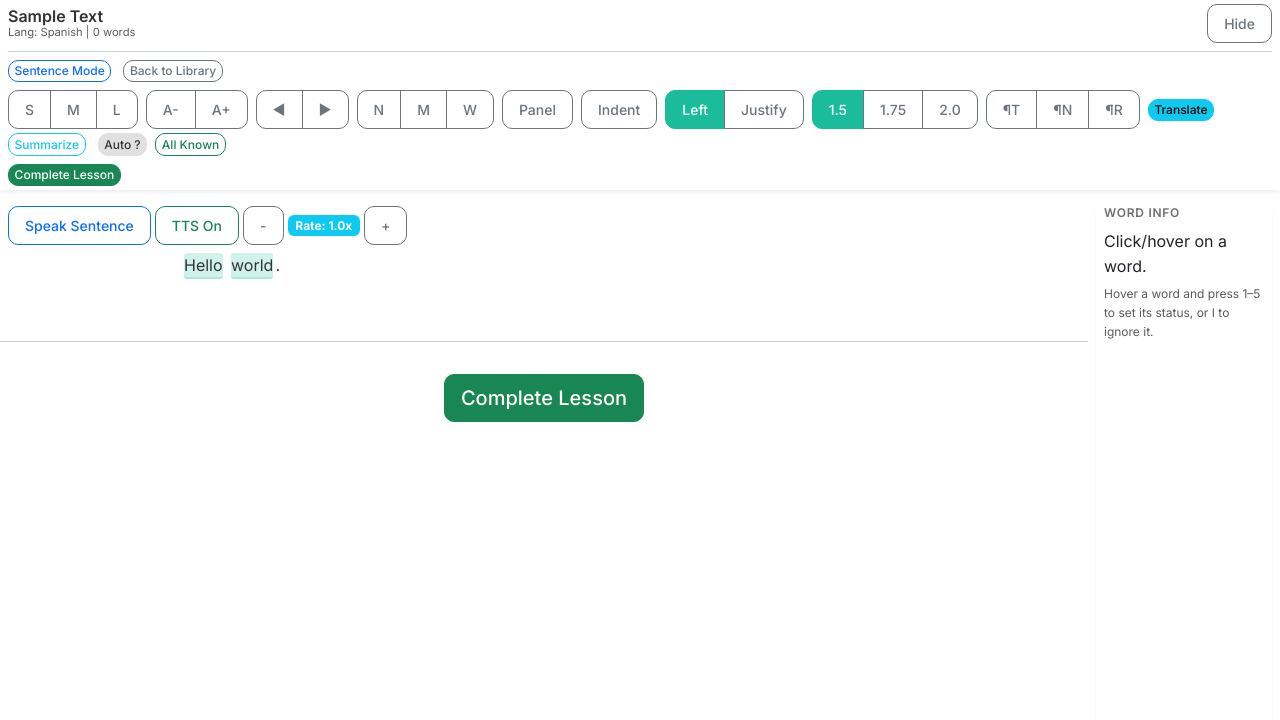
Test: TextDisplay › clicking a word opens Word Info panel
Click the text "Hello" at (203, 266), box [184,253,223,279]
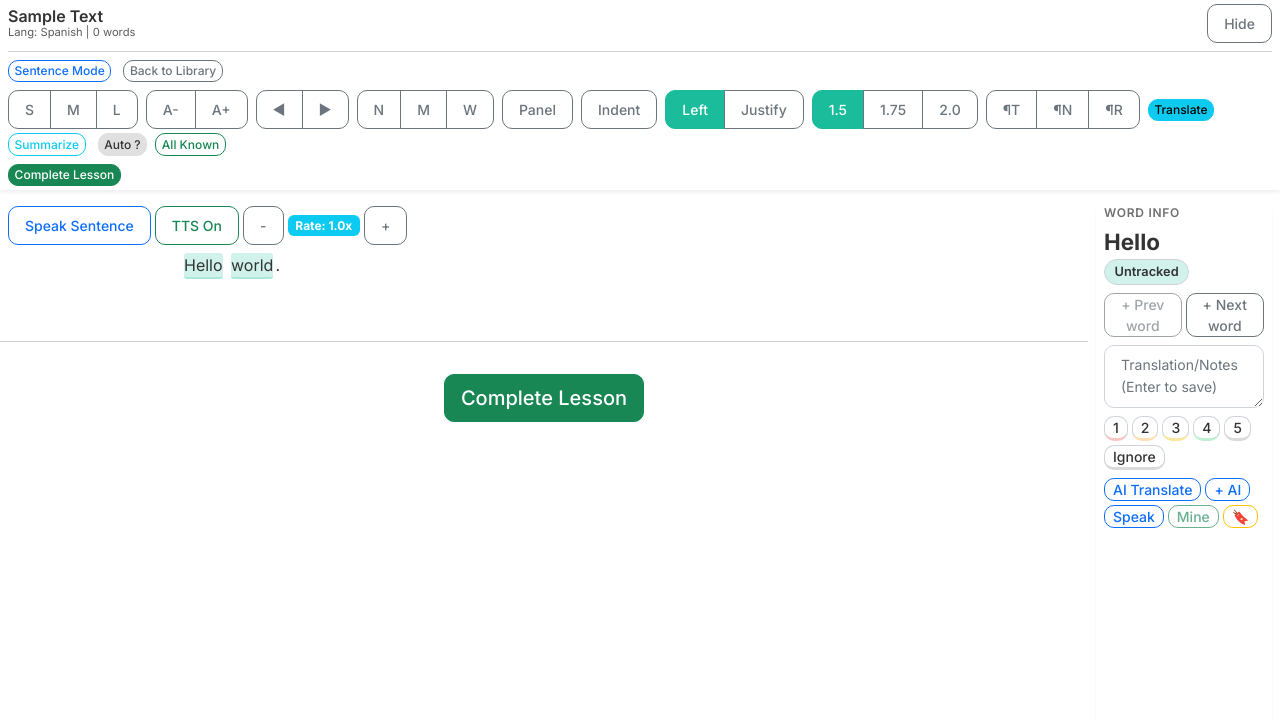
Expected: the heading "Word Info" is shown, [1104,205,1180,220]
Result: the heading "Hello" is shown at [1104,228,1160,254]
Result: the text "Untracked" is shown at [1104,259,1189,285]
